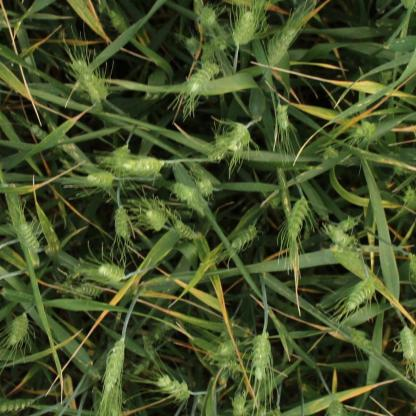whd: (102, 338, 127, 396), (267, 29, 298, 66), (78, 74, 104, 114), (252, 335, 272, 380), (288, 198, 308, 240), (188, 64, 218, 92), (275, 167, 292, 216), (157, 374, 189, 400), (347, 280, 373, 312), (232, 11, 256, 45), (7, 314, 30, 346), (398, 324, 416, 362), (228, 122, 251, 150), (18, 223, 40, 251), (0, 397, 36, 414), (124, 157, 164, 172), (232, 224, 256, 249), (106, 387, 126, 416), (348, 328, 372, 352), (112, 208, 131, 238), (210, 27, 233, 50), (350, 120, 377, 138), (98, 265, 124, 283), (198, 5, 219, 26), (90, 77, 109, 100), (328, 226, 352, 244), (112, 146, 131, 168), (324, 400, 350, 416), (175, 220, 195, 240), (145, 211, 164, 231), (109, 11, 127, 32), (88, 172, 115, 186), (200, 43, 216, 66), (74, 58, 94, 76), (141, 337, 156, 361), (230, 395, 247, 416), (76, 285, 105, 297), (171, 184, 194, 199), (29, 125, 49, 140), (196, 179, 216, 194), (277, 104, 288, 130), (133, 359, 149, 375), (182, 38, 199, 52), (337, 219, 355, 232), (398, 0, 416, 13), (215, 355, 234, 367), (218, 342, 234, 356), (323, 146, 338, 160), (56, 280, 71, 292), (403, 188, 415, 202), (380, 70, 392, 84), (210, 150, 224, 162), (409, 253, 416, 275), (160, 319, 172, 331), (98, 0, 108, 13), (264, 408, 282, 415), (216, 136, 226, 148), (152, 330, 162, 341), (258, 406, 268, 416), (394, 168, 404, 175)
